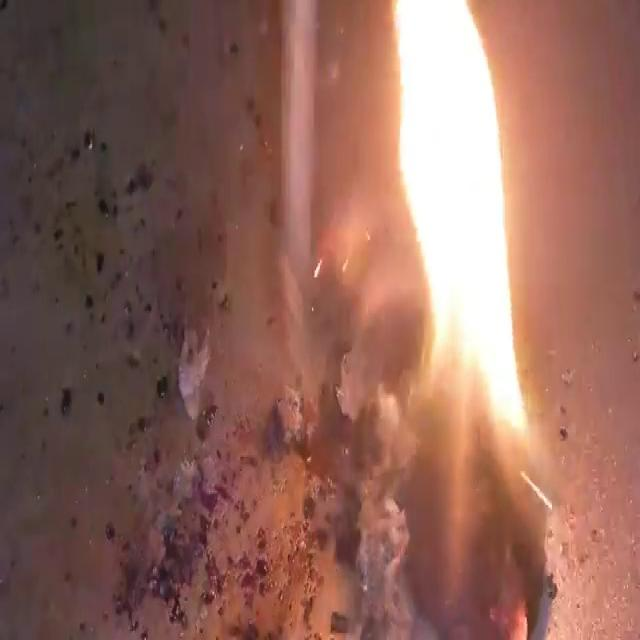Fire: (4, 2, 635, 636), (375, 8, 549, 633)
